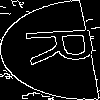R: (24, 25, 100, 66)
